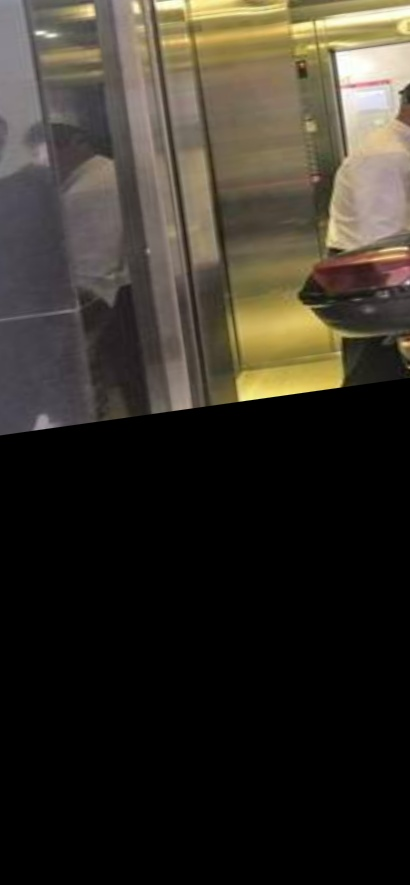ebike: (292, 250, 410, 389)
person: (319, 68, 410, 260)
